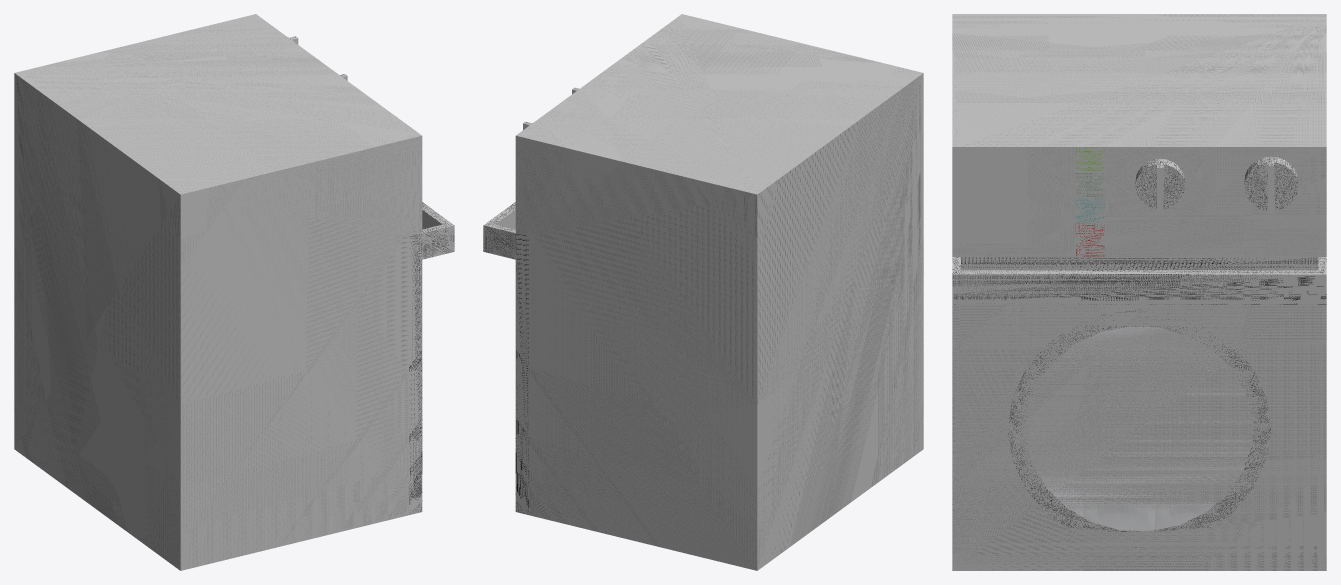
3 views of the same model, side by side, from view 1: azimuth 30°, elevation 25°; view 2: azimuth 150°, elevation 25°; view 3: azimuth 270°, elevation 25° (orthographic). The views are drawn at different scales.
Visible parts, largest first — view 1: mesh1_mesh1-geometry; view 2: mesh1_mesh1-geometry; view 3: mesh1_mesh1-geometry, mesh2_mesh2-geometry, mesh3_mesh3-geometry.
Part boxes in pixels (<box>): mesh1_mesh1-geometry: <box>14,14,454,570</box>; mesh1_mesh1-geometry: <box>483,14,923,570</box>; mesh1_mesh1-geometry: <box>952,14,1326,570</box>; mesh2_mesh2-geometry: <box>1008,310,1270,547</box>; mesh3_mesh3-geometry: <box>1244,156,1298,214</box>.
Size of the model in its own units: 0.5113 by 0.6709 by 0.5371.
